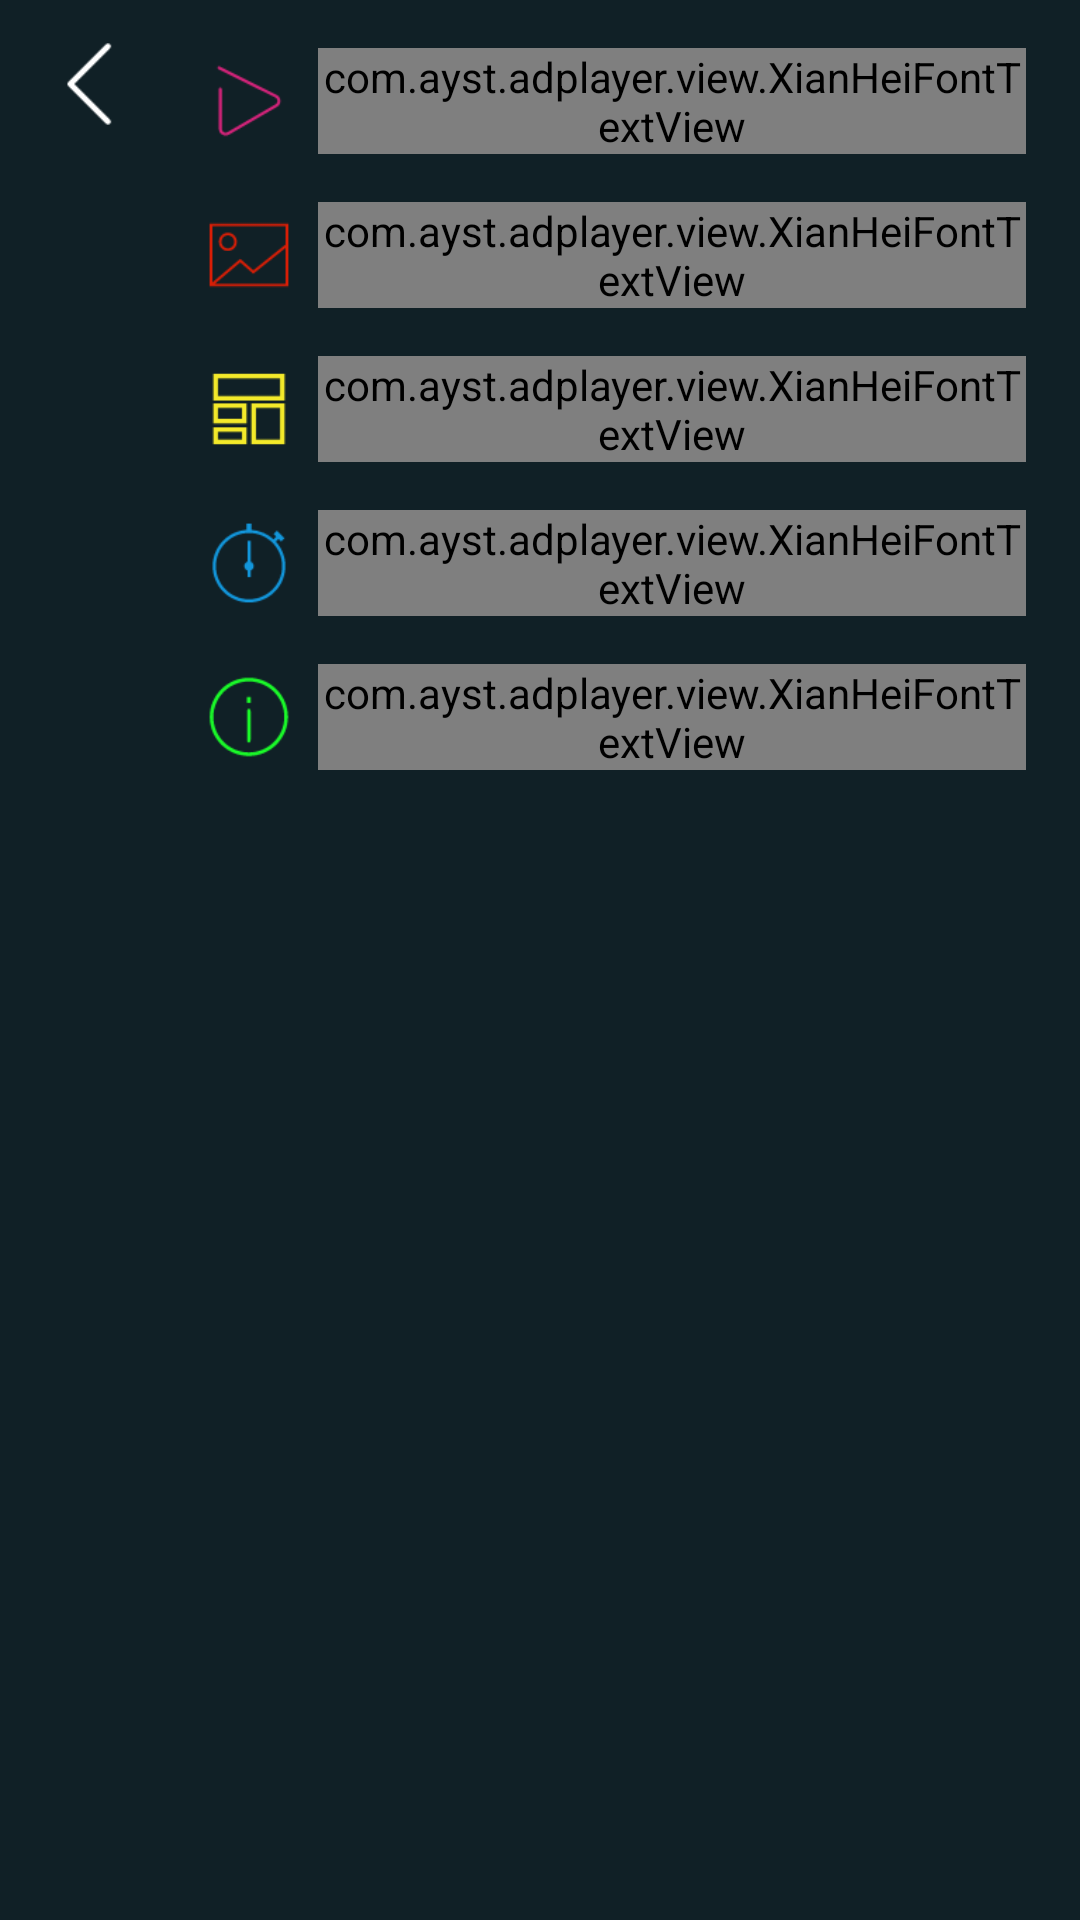

Named icons in this screenshot (1080×1920) and their centers, point (x, y):
left: point (89, 84)
setting about: point (249, 717)
setting play: point (249, 101)
setting template: point (249, 409)
setting time: point (249, 563)
